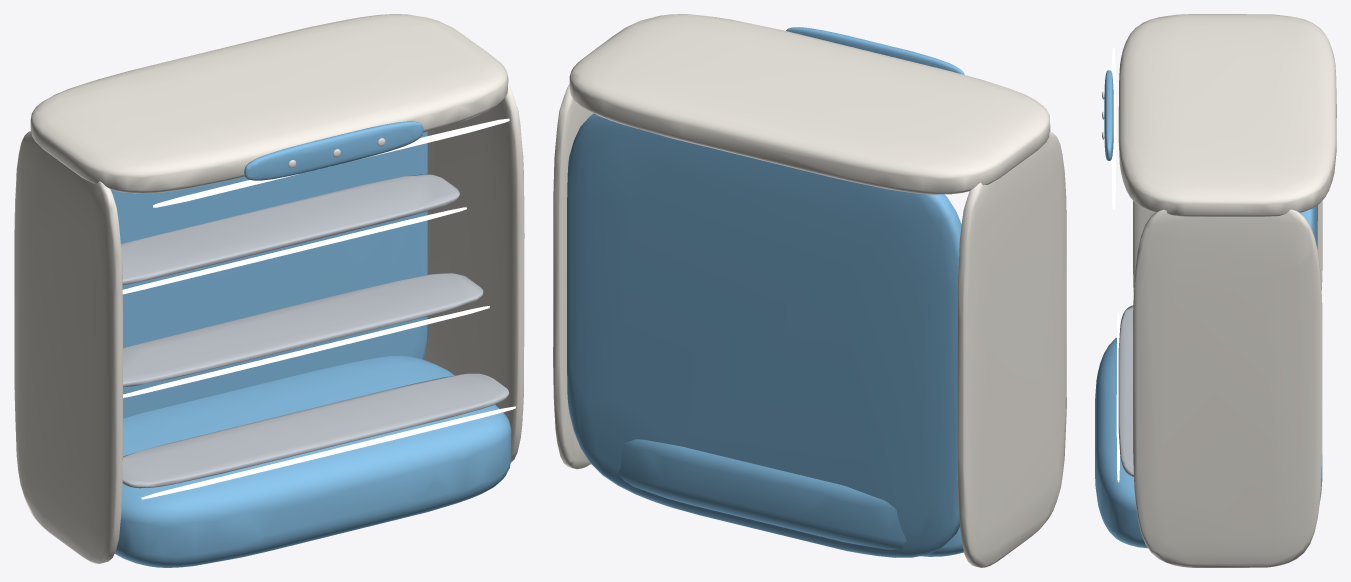
The model's file is vitrina_nevera_3.glb.
The picture shows the model from 3 angles, left to right: view 1: azimuth 30°, elevation 25°; view 2: azimuth 150°, elevation 25°; view 3: azimuth 270°, elevation 25°; orthographic projection. The views are drawn at different scales.
Parts seen in each view (by area): view 1: dosel, base.003, costado.002, fondo, costado.003, repisa.004, repisa.005, repisa.006, letrero.009, luz repisa.004, luz repisa.005, luz repisa.006 (+1 smaller); view 2: fondo, dosel, costado.002, base.003, costado.003, letrero.009; view 3: costado.003, dosel, base.003, repisa.004, costado.002, letrero.009, tira de luz.001, luz repisa.004.
Part boxes in pixels (x1,y1,x2,y2): dosel: (30,14,508,193); base.003: (114,355,511,567); costado.002: (14,131,123,563); fondo: (111,131,427,418); costado.003: (423,83,524,462); repisa.004: (122,373,509,488); repisa.005: (123,273,483,387); repisa.006: (121,174,460,285); letrero.009: (244,121,423,180); luz repisa.004: (141,406,515,499); luz repisa.005: (123,306,489,397); luz repisa.006: (122,207,466,294); fondo: (567,113,961,557); dosel: (569,14,1050,194); costado.002: (957,132,1066,567); base.003: (618,439,963,556); costado.003: (553,84,593,469); letrero.009: (786,27,964,74); costado.003: (1133,209,1322,567); dosel: (1118,14,1336,216); base.003: (1095,337,1322,548); repisa.004: (1118,305,1133,476); costado.002: (1133,200,1322,292); letrero.009: (1104,70,1113,160); tira de luz.001: (1111,47,1115,209); luz repisa.004: (1116,313,1120,482).
Bounding box in the file's own units: 1.88 × 1.76 × 1.02.
